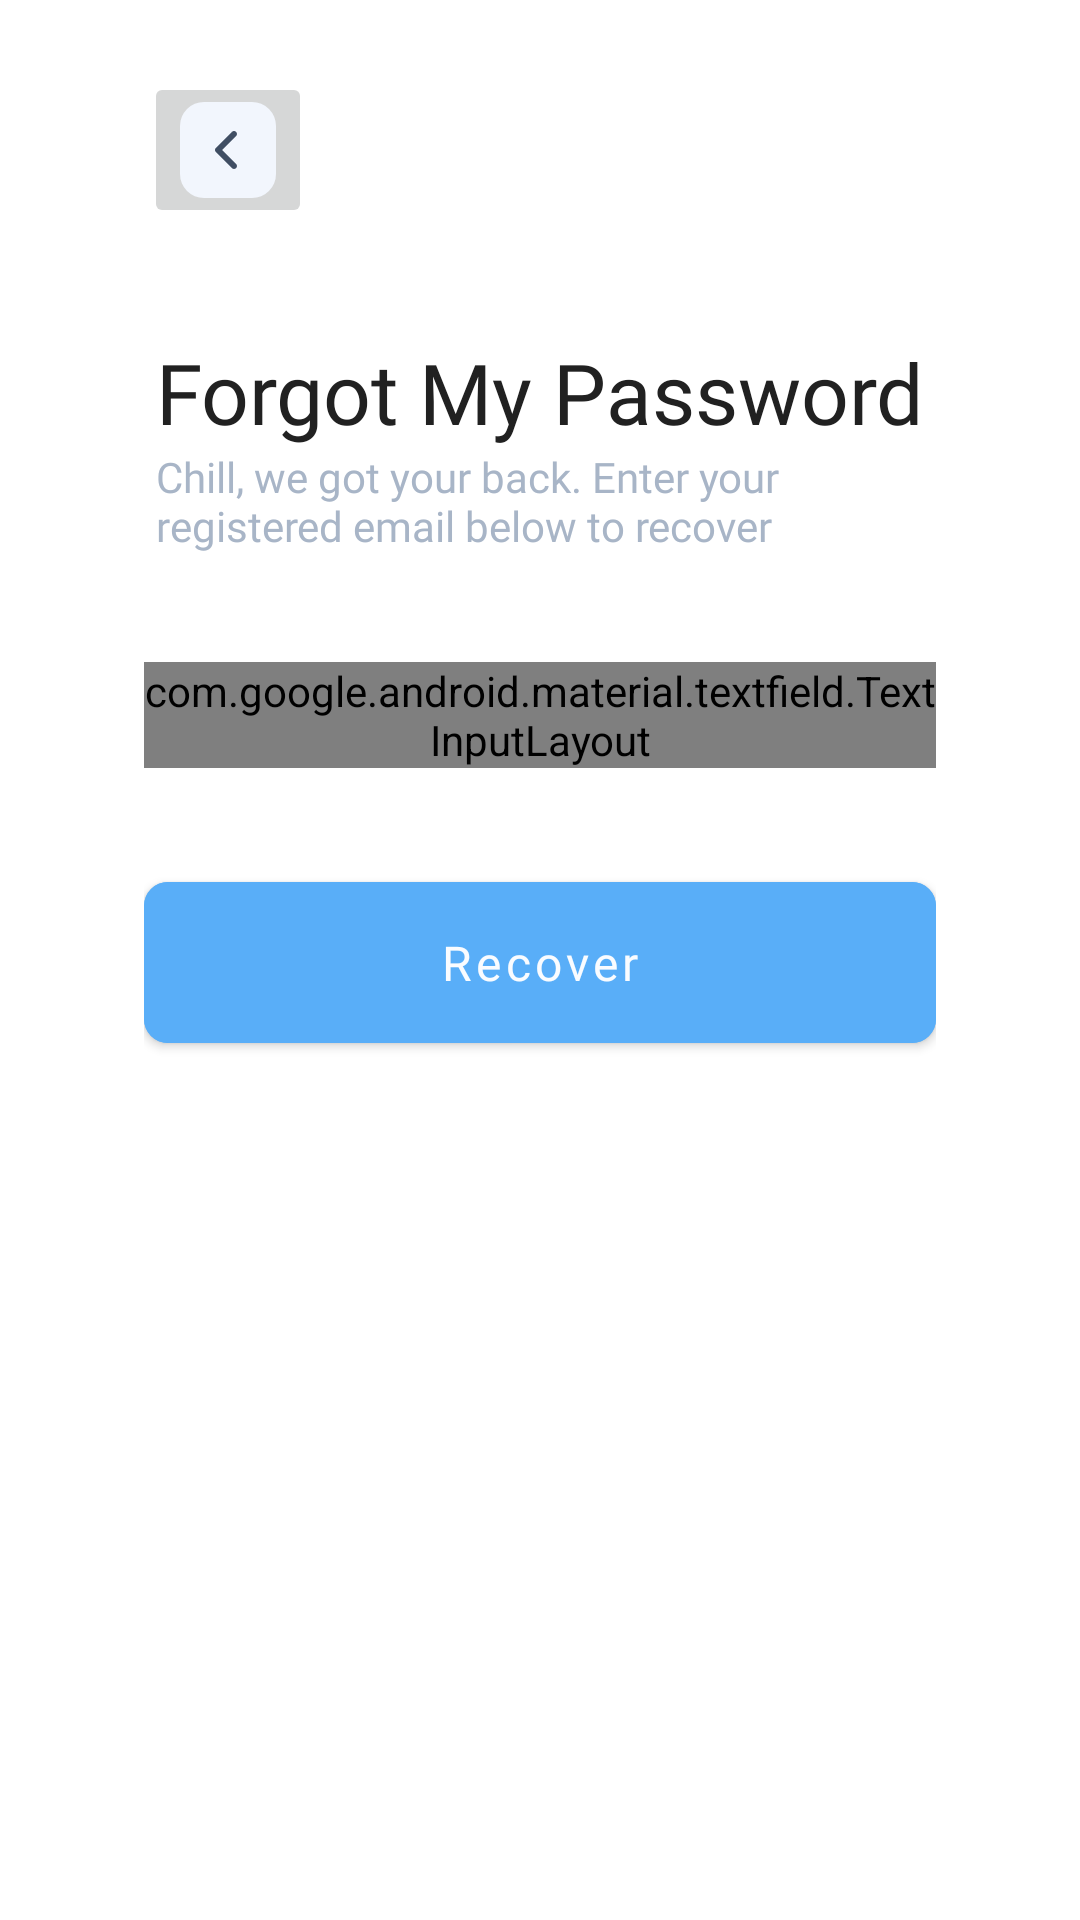

Screen size 1080×1920. Icon name, then its box in pixels as (x1, y1, x2, y2):
back: (156, 90, 300, 210)
